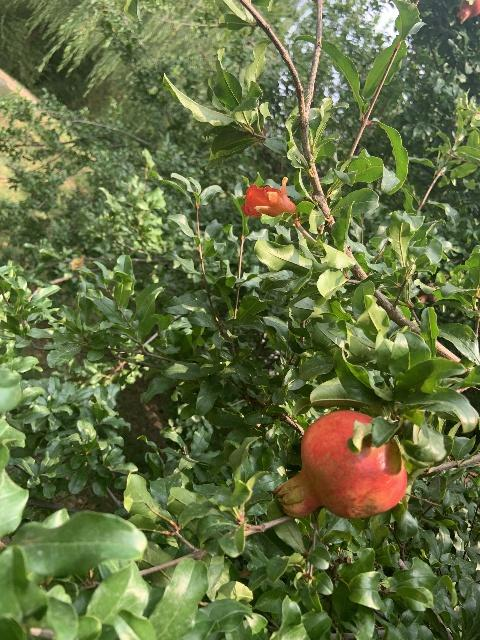flower: (240, 176, 298, 224)
ripe: (273, 410, 407, 519), (457, 0, 480, 23)
